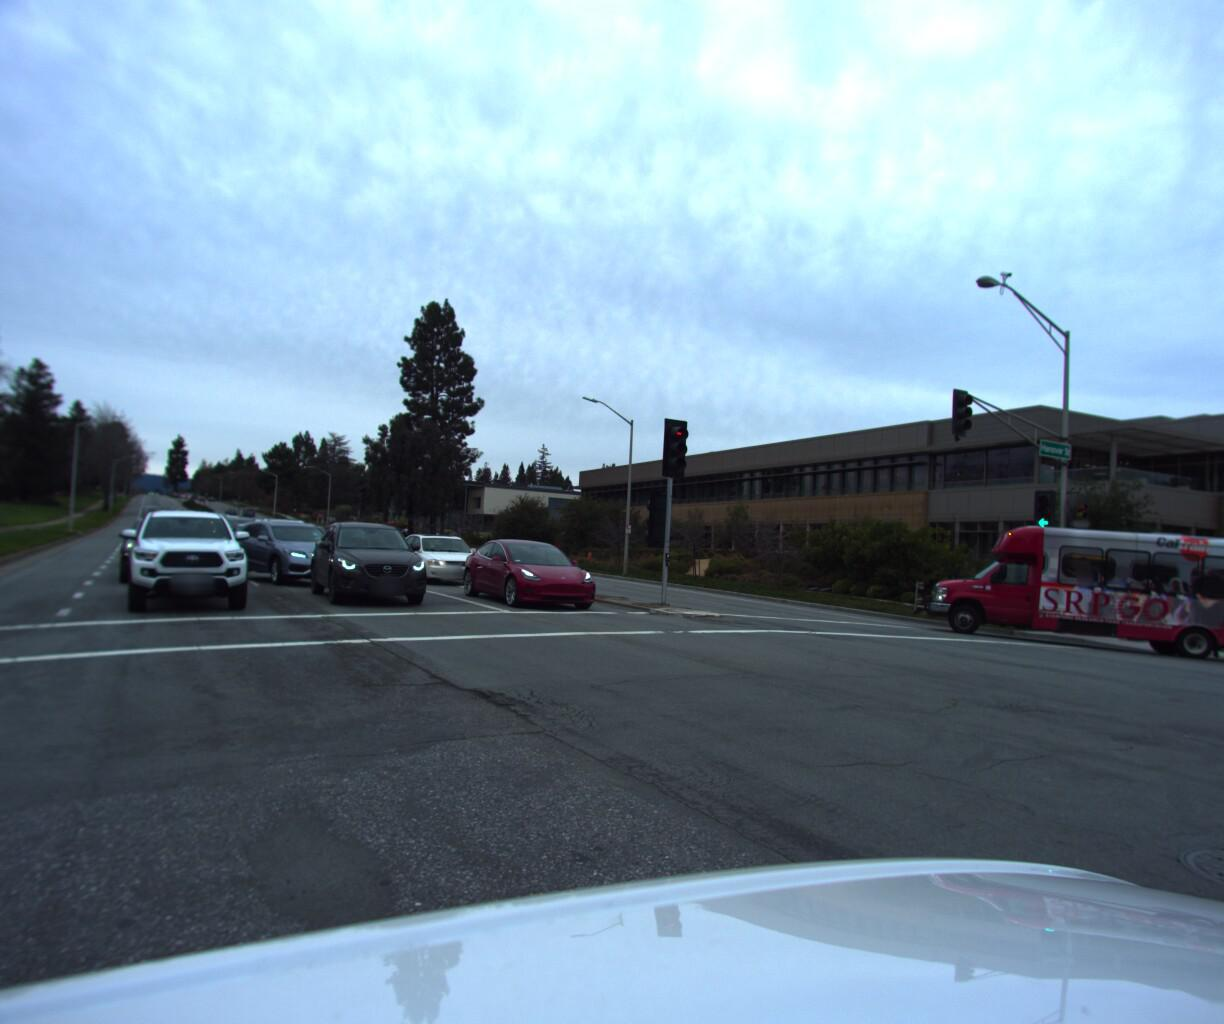bus: (911, 503, 1224, 665)
car: (126, 497, 259, 616), (307, 513, 445, 607), (456, 535, 612, 613), (224, 517, 369, 586), (116, 513, 218, 585), (387, 529, 497, 585), (251, 513, 325, 573), (142, 501, 188, 542)
